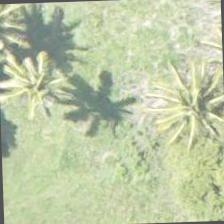Kelapa_Sawit: (3, 30, 96, 124), (145, 58, 223, 152)
